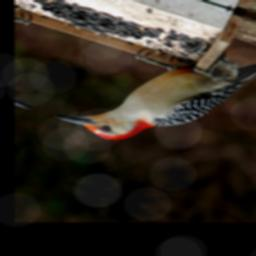Woodpecker: (51, 15, 256, 171)
